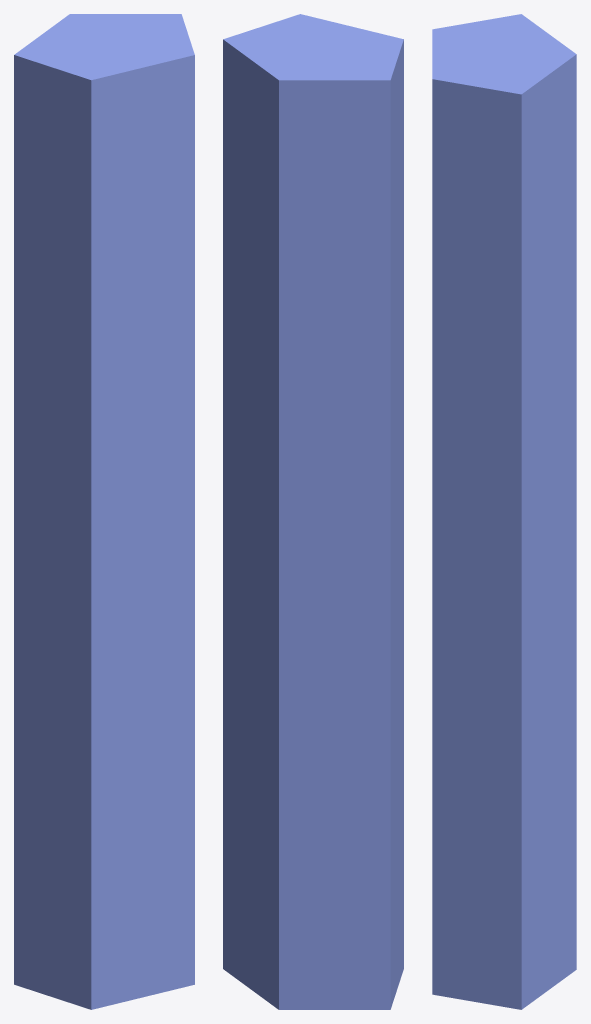
The model's file is tree_trunk.fbx.
3 renders of one model, left to right at view 1: azimuth 30°, elevation 25°; view 2: azimuth 150°, elevation 25°; view 3: azimuth 270°, elevation 25°, orthographic.
Parts seen in each view (by area): view 1: Cylinder; view 2: Cylinder; view 3: Cylinder.
Part boxes in pixels (left/top/right/bottom): Cylinder: left=14, top=14, right=194, bottom=1009; Cylinder: left=223, top=14, right=403, bottom=1009; Cylinder: left=432, top=14, right=576, bottom=1009.
Bounding box in the file's own units: 2.52 × 3.33 × 17.66.
